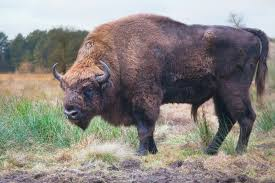zubr: (52, 8, 275, 156)
